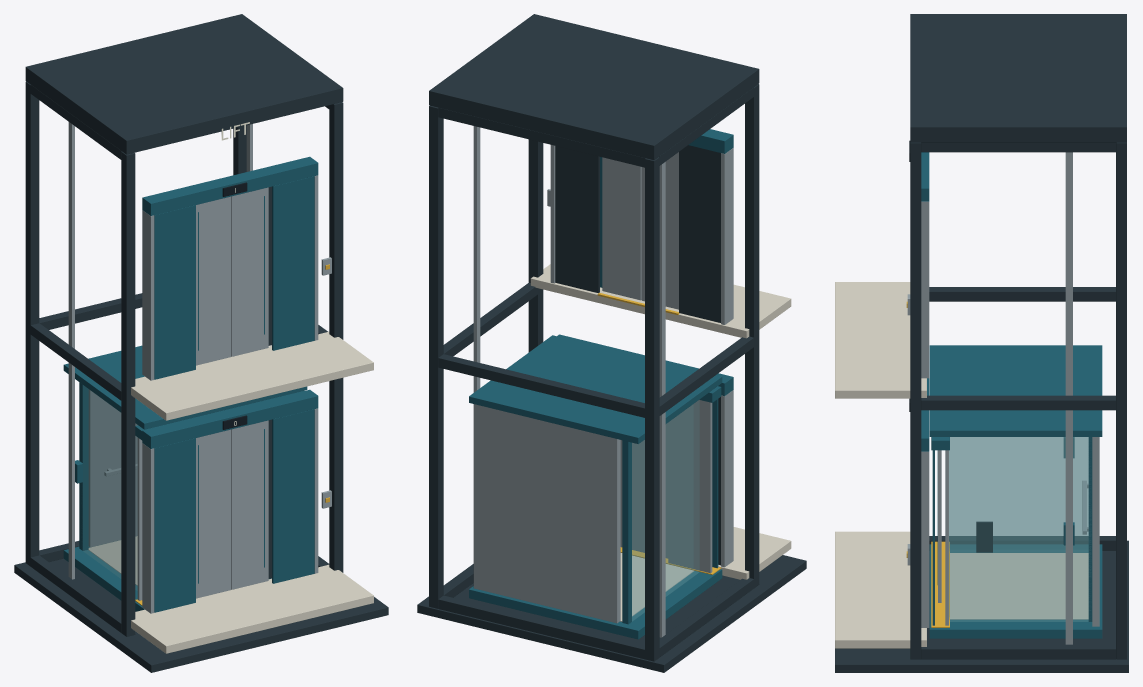
File: edited.glb
The picture shows the model from 3 angles, left to right: view 1: azimuth 30°, elevation 25°; view 2: azimuth 150°, elevation 25°; view 3: azimuth 270°, elevation 25°; orthographic projection. The views are drawn at different scales.
Visible parts, largest first — view 1: Shaft_TopBeam, Landing_1_Floor, Landing_0_Floor, Shaft_Base, Shaft_Post, Landing_0_PocketFront_R, Landing_1_PocketFront_R, Landing_0_PocketFront_L, Landing_1_PocketFront_L, Shaft_Post.001, Cab_SideWall_L, Shaft_Post.002 (+24 smaller); view 2: Shaft_TopBeam, Cab_BackWall, Cab_Ceiling, Cab_SideWall_L, Shaft_Base, Shaft_Post.001, Shaft_Post.003, Cab_PocketBack_L, Shaft_Post, Landing_1_PocketBack_L, Landing_1_PocketBack_R, Leaf_Landing1R (+23 smaller); view 3: Shaft_TopBeam, Cab_SideWall_R, Cab_SideWall_L, Cab_Ceiling, Landing_0_Floor, Landing_1_Floor, Cab_FloorFinish, Shaft_Base, Shaft_Post.002, Shaft_Post.003, Cab_Floor, Guide_Rail.001 (+15 smaller).
Boxes of the visible parts, <box> form: Shaft_TopBeam: <box>25,14,343,154</box>; Landing_1_Floor: <box>131,331,373,420</box>; Landing_0_Floor: <box>131,564,373,653</box>; Shaft_Base: <box>14,556,388,672</box>; Shaft_Post: <box>121,151,135,636</box>; Landing_0_PocketFront_R: <box>272,409,314,583</box>; Landing_1_PocketFront_R: <box>272,176,314,350</box>; Landing_0_PocketFront_L: <box>154,438,195,612</box>; Landing_1_PocketFront_L: <box>154,205,195,379</box>; Shaft_Post.001: <box>25,81,39,566</box>; Cab_SideWall_L: <box>83,385,137,590</box>; Shaft_Post.002: <box>329,102,343,572</box>; Shaft_TopBeam: <box>429,14,759,159</box>; Cab_BackWall: <box>473,404,620,623</box>; Cab_Ceiling: <box>469,335,722,443</box>; Cab_SideWall_L: <box>632,400,699,621</box>; Shaft_Base: <box>417,555,806,672</box>; Shaft_Post.001: <box>645,157,659,661</box>; Shaft_Post.003: <box>429,105,443,608</box>; Cab_PocketBack_L: <box>668,400,712,573</box>; Shaft_Post: <box>745,84,759,588</box>; Landing_1_PocketBack_L: <box>679,145,720,322</box>; Landing_1_PocketBack_R: <box>555,146,599,293</box>; Leaf_Landing1R: <box>602,157,641,300</box>; Shaft_TopBeam: <box>910,14,1126,142</box>; Cab_SideWall_R: <box>949,437,1090,621</box>; Cab_SideWall_L: <box>949,437,1088,552</box>; Cab_Ceiling: <box>929,345,1102,436</box>; Landing_0_Floor: <box>835,531,926,648</box>; Landing_1_Floor: <box>835,282,926,398</box>; Cab_FloorFinish: <box>950,553,1088,619</box>; Shaft_Base: <box>835,540,1128,672</box>; Shaft_Post.002: <box>910,142,921,659</box>; Shaft_Post.003: <box>1116,142,1126,659</box>; Cab_Floor: <box>929,544,1102,638</box>; Guide_Rail.001: <box>1065,152,1072,644</box>.
Size of the model in its own units: 3.2 by 6.49 by 3.2.
